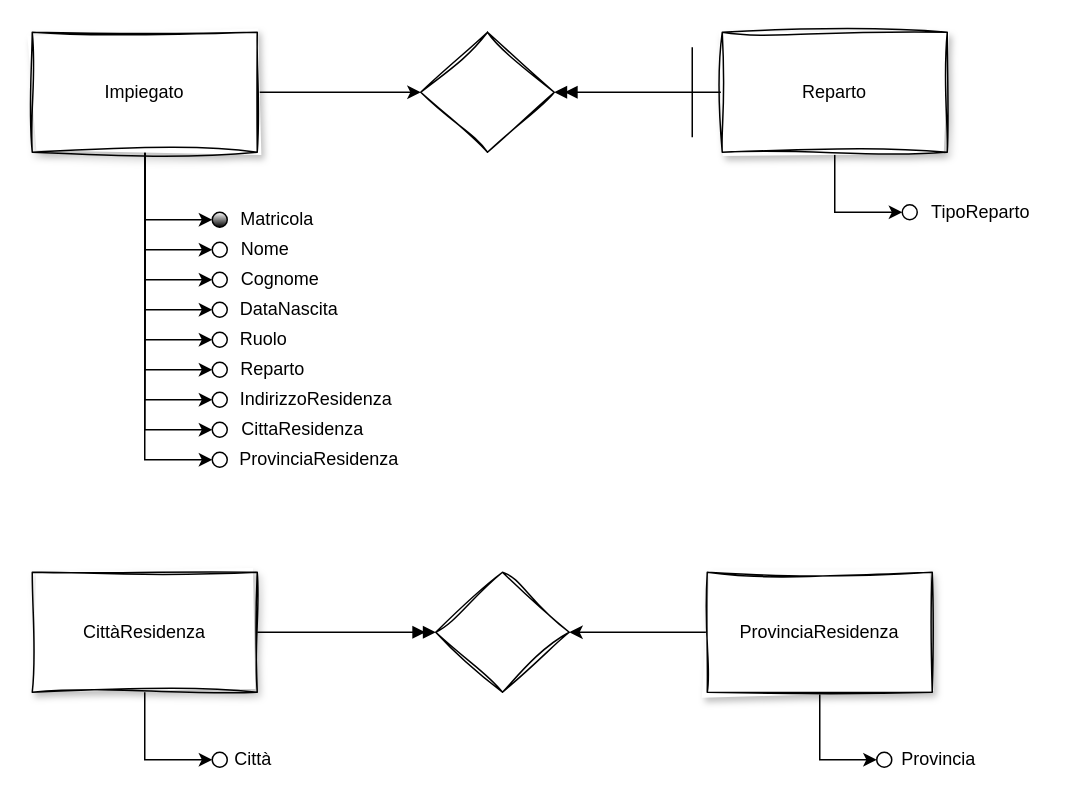
Some shapes in this 1074 by 809 pixel diagram are drawn without their labels. Each missing label, with the centre of its shape:
Appartiene: (x=501, y=631)
Lavorare: (x=486, y=91)
